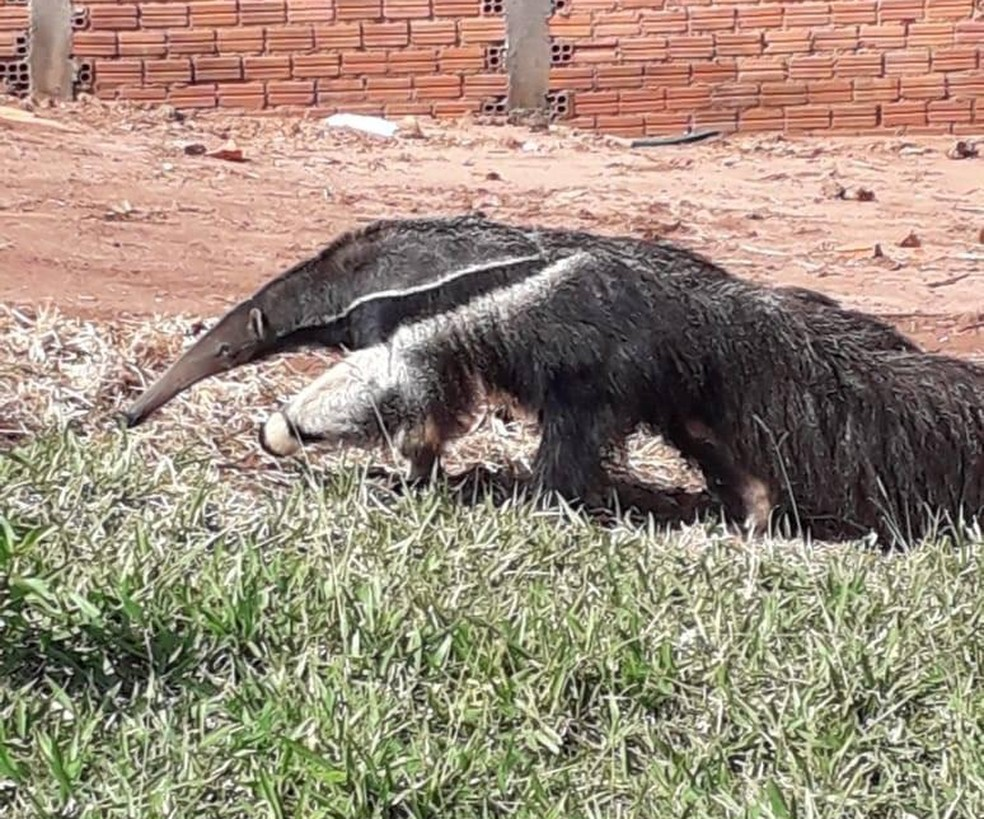TamanduaBandeira: (105, 205, 961, 531)
